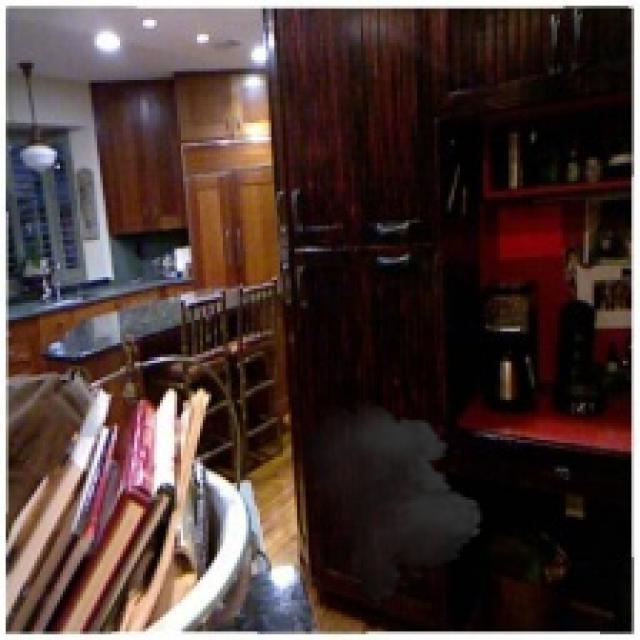Smoke: (277, 401, 492, 608)
